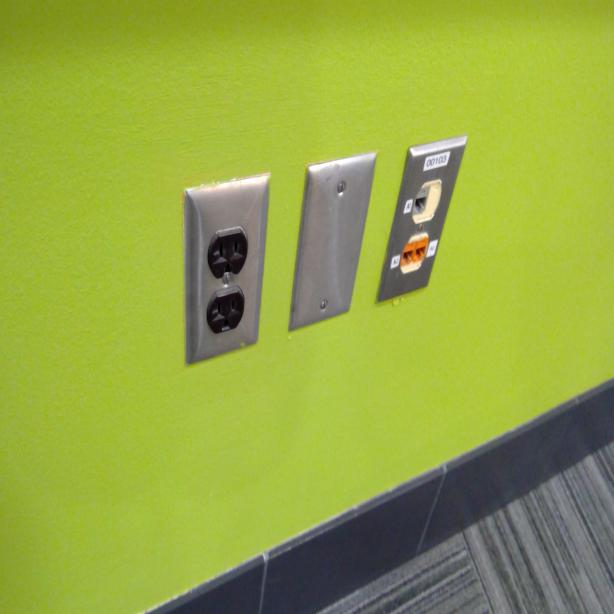typeb: (210, 228, 250, 276), (210, 293, 242, 331)
